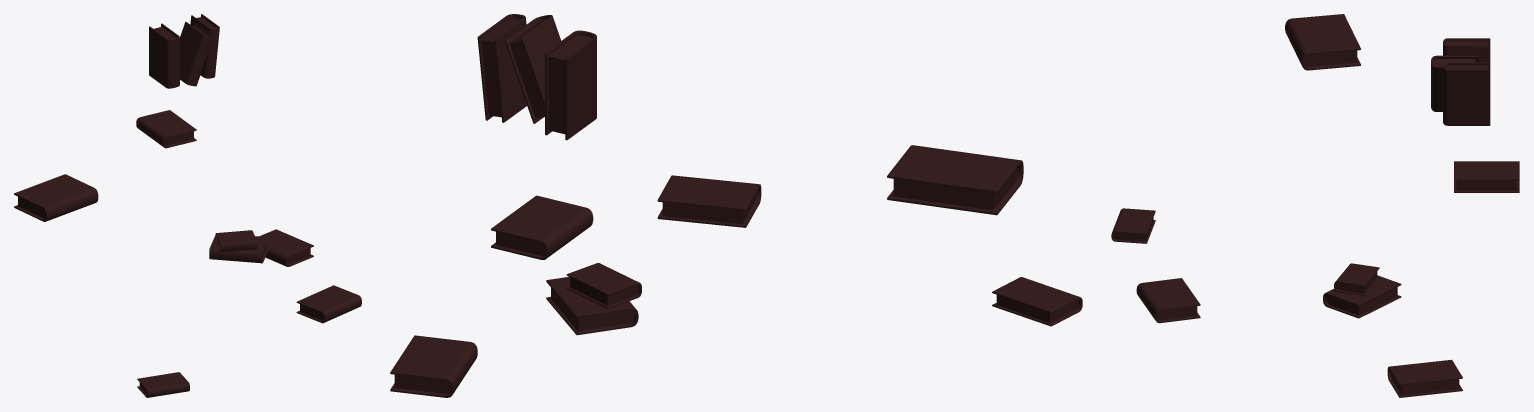
File: BookTexture.obj
The picture shows the model from 3 angles, left to right: view 1: azimuth 30°, elevation 25°; view 2: azimuth 150°, elevation 25°; view 3: azimuth 270°, elevation 25°; orthographic projection. The views are drawn at different scales.
Parts seen in each view (by area): view 1: Books Book10, Books Book1, Books Book8, Books Book3, Books Book4, Books Book5, Books Book9, Books Book6, Book2 Books, Books Book7; view 2: Books Book10, Books Book1, Books Book8, Books Book4, Books Book5, Book2 Books, Books Book3, Books Book9, Books Book6, Books Book7; view 3: Books Book10, Book2 Books, Books Book5, Books Book8, Books Book4, Books Book6, Books Book9, Books Book7, Books Book3, Books Book1.
Boxes of the visible parts, x1,y1,x2,y2 form: Books Book10: (14, 174, 98, 221); Books Book1: (149, 23, 179, 88); Books Book8: (296, 285, 361, 323); Books Book3: (180, 21, 213, 86); Books Book4: (136, 110, 196, 148); Books Book5: (259, 229, 313, 266); Books Book9: (137, 372, 189, 397); Books Book6: (209, 234, 269, 263); Book2 Books: (190, 14, 219, 78); Books Book7: (215, 230, 257, 251); Books Book10: (887, 145, 1023, 215); Books Book1: (545, 30, 596, 140); Books Book8: (657, 175, 761, 227); Books Book4: (491, 195, 593, 259); Books Book5: (390, 335, 477, 397); Book2 Books: (477, 14, 526, 122); Books Book3: (505, 15, 561, 123); Books Book9: (992, 277, 1082, 326); Books Book6: (546, 277, 638, 335); Books Book7: (566, 263, 641, 308); Books Book10: (1285, 14, 1360, 70); Book2 Books: (1443, 62, 1490, 125); Books Book5: (1387, 359, 1462, 397); Books Book8: (1136, 278, 1200, 323); Books Book4: (1454, 161, 1519, 192); Books Book6: (1323, 275, 1401, 318); Books Book9: (1111, 208, 1155, 243); Books Book7: (1334, 263, 1379, 295); Books Book3: (1431, 55, 1477, 111); Books Book1: (1443, 38, 1490, 62).
Bounding box in the file's own units: 3.72 × 2.59 × 3.36.
